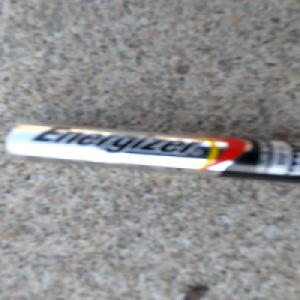Battery: (2, 120, 300, 184)
